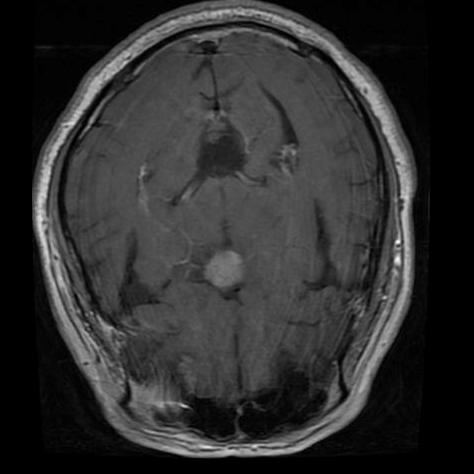Tumour-Pituitary: (203, 247, 251, 291)
